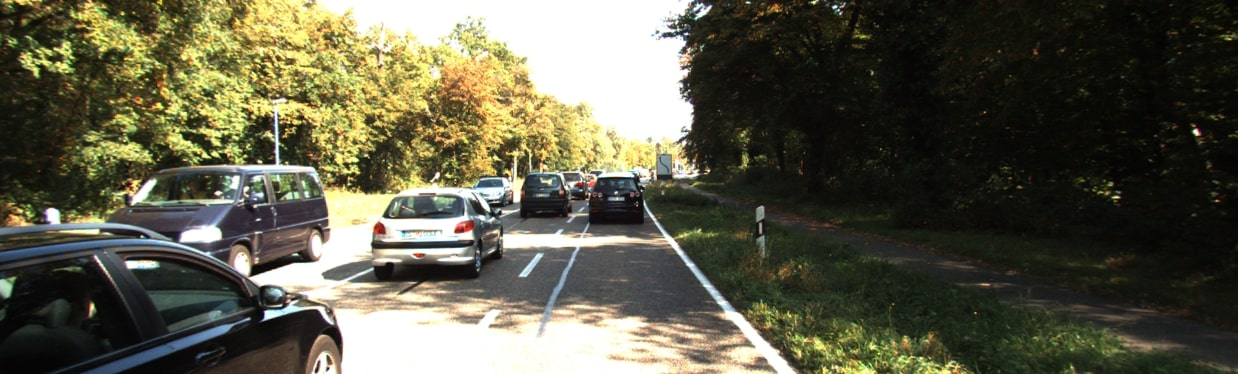car: (1, 224, 350, 374), (106, 155, 322, 282), (367, 186, 508, 278), (582, 173, 648, 223), (518, 171, 572, 219), (477, 168, 509, 202)
